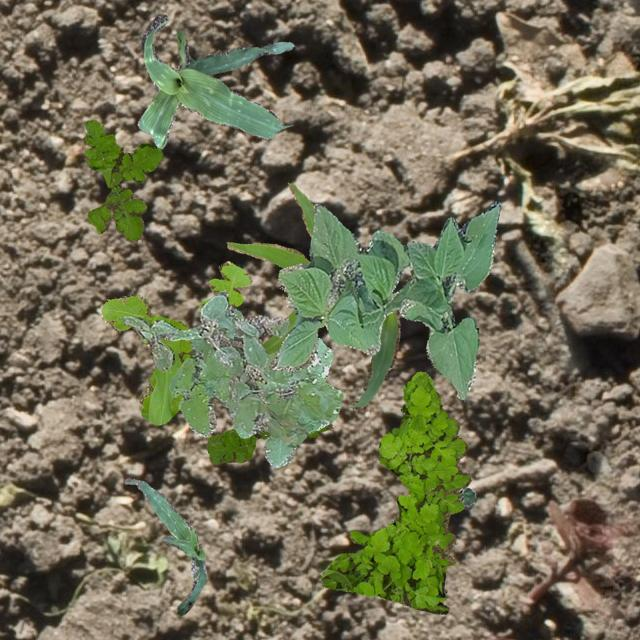crop: (268, 200, 500, 398), (136, 14, 292, 148), (226, 182, 314, 354), (123, 478, 204, 614), (349, 308, 402, 410), (456, 486, 474, 508)
weed: (320, 370, 470, 612), (168, 306, 342, 467), (100, 260, 252, 423), (118, 288, 294, 402), (81, 118, 162, 242), (206, 422, 332, 463)
